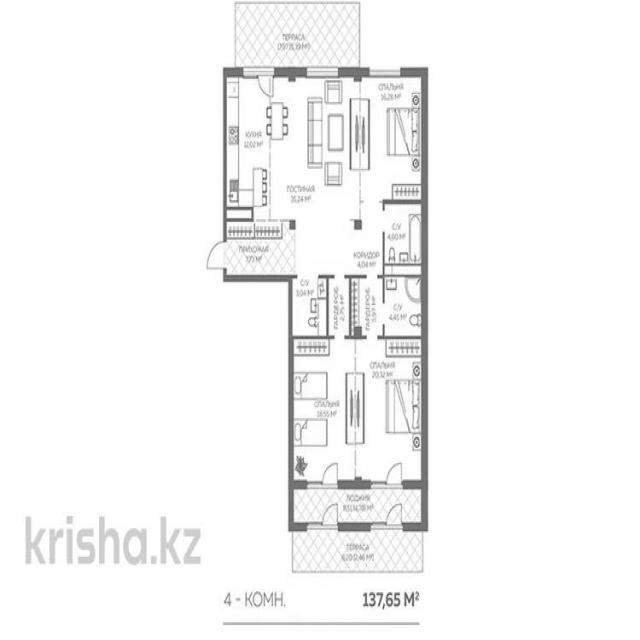balcony: (234, 1, 360, 66), (290, 526, 425, 576), (290, 484, 425, 523)
bathroom: (384, 205, 424, 272), (382, 278, 423, 334), (290, 276, 328, 335)
hallway: (295, 226, 382, 275), (225, 225, 292, 276)
kitchen: (225, 72, 268, 205)
living_room: (293, 342, 422, 480), (272, 77, 358, 224), (361, 74, 423, 203)
other: (354, 278, 381, 334), (329, 278, 352, 335)
